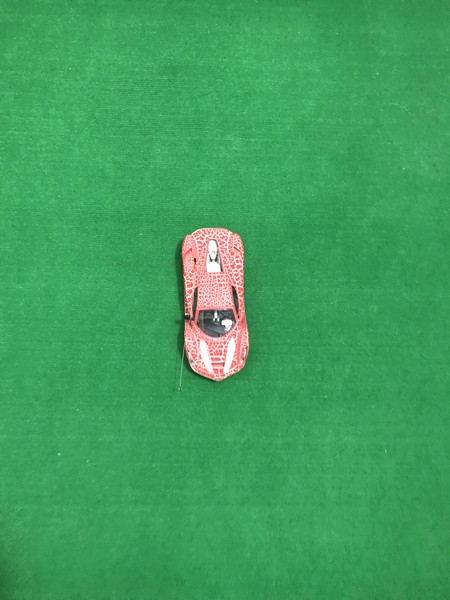RC: (178, 225, 254, 386)
